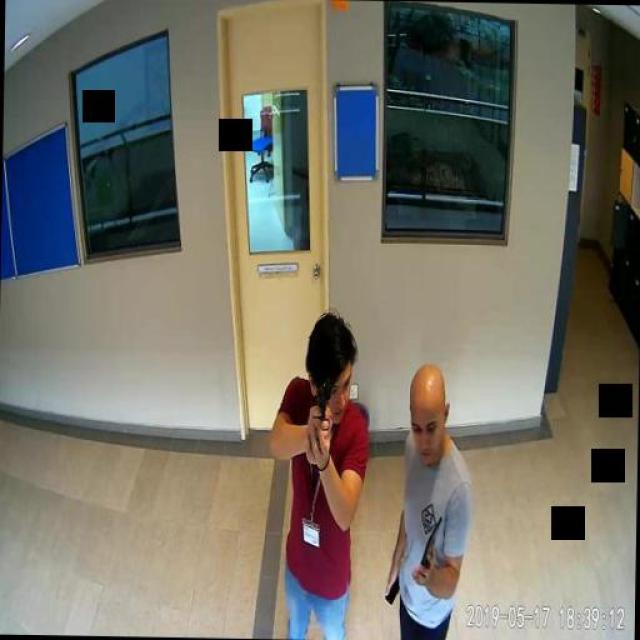gun: (315, 374, 331, 440)
